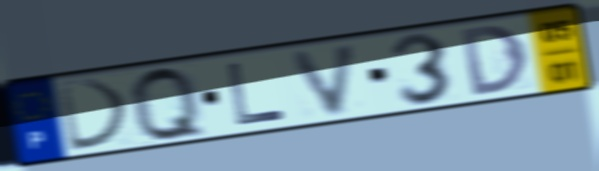3: (389, 31, 455, 107)
D: (54, 76, 135, 155), (456, 21, 533, 99)
L: (224, 59, 289, 127)
Q: (126, 63, 211, 144)
V: (287, 39, 365, 119)
